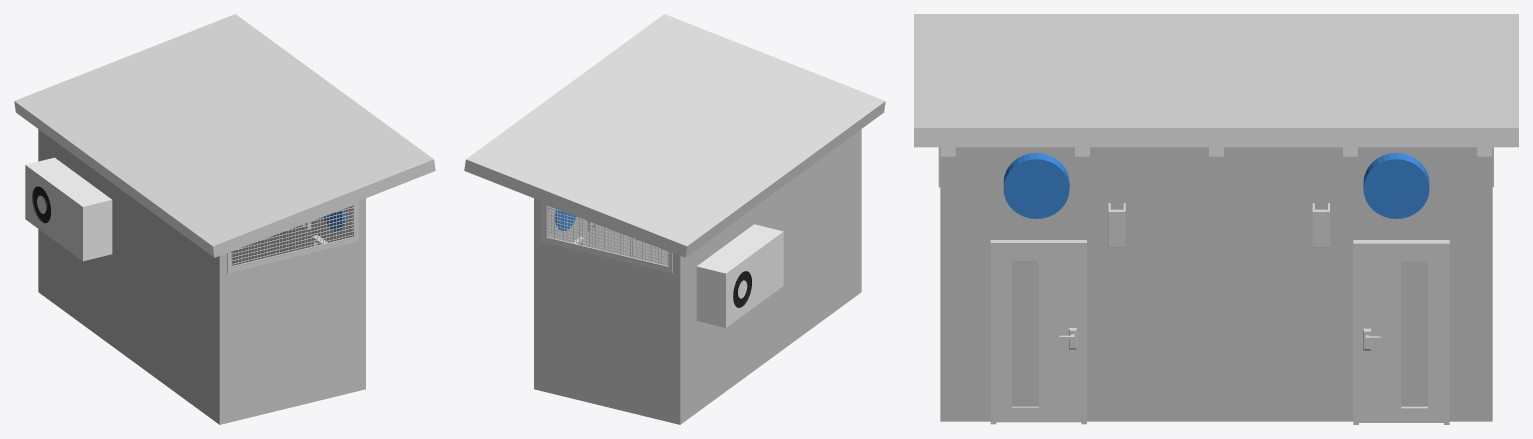
The model's file is toilet.fbx.
The picture shows the model from 3 angles, left to right: view 1: azimuth 30°, elevation 25°; view 2: azimuth 150°, elevation 25°; view 3: azimuth 270°, elevation 25°; orthographic projection. The views are drawn at different scales.
Visible parts, largest first — view 1: Cube.007, Cube, Cube.015, Cube.008; view 2: Cube.007, Cube, Cube.015, Cube.001; view 3: Cube, Cube.007, doorwayFront, doorwayFront.001, Circle, Circle.001, Astro_Lighting_Parma_160_Wall, Astro_Lighting_Parma_160_Wall.001.
Boxes of the visible parts, <box> form: Cube.007: <box>14,14,435,257</box>; Cube: <box>38,129,365,424</box>; Cube.015: <box>25,157,112,261</box>; Cube.008: <box>227,201,358,273</box>; Cube.007: <box>464,14,885,257</box>; Cube: <box>534,129,861,424</box>; Cube.015: <box>696,224,783,327</box>; Cube.001: <box>541,201,672,273</box>; Cube: <box>940,147,1492,421</box>; Cube.007: <box>914,14,1518,147</box>; doorwayFront: <box>990,240,1086,424</box>; doorwayFront.001: <box>1353,240,1449,424</box>; Circle: <box>1003,153,1069,218</box>; Circle.001: <box>1363,153,1429,218</box>; Astro_Lighting_Parma_160_Wall: <box>1108,203,1125,247</box>; Astro_Lighting_Parma_160_Wall.001: <box>1312,203,1329,247</box>.
Bounding box in the file's own units: 332 × 297 × 482.
